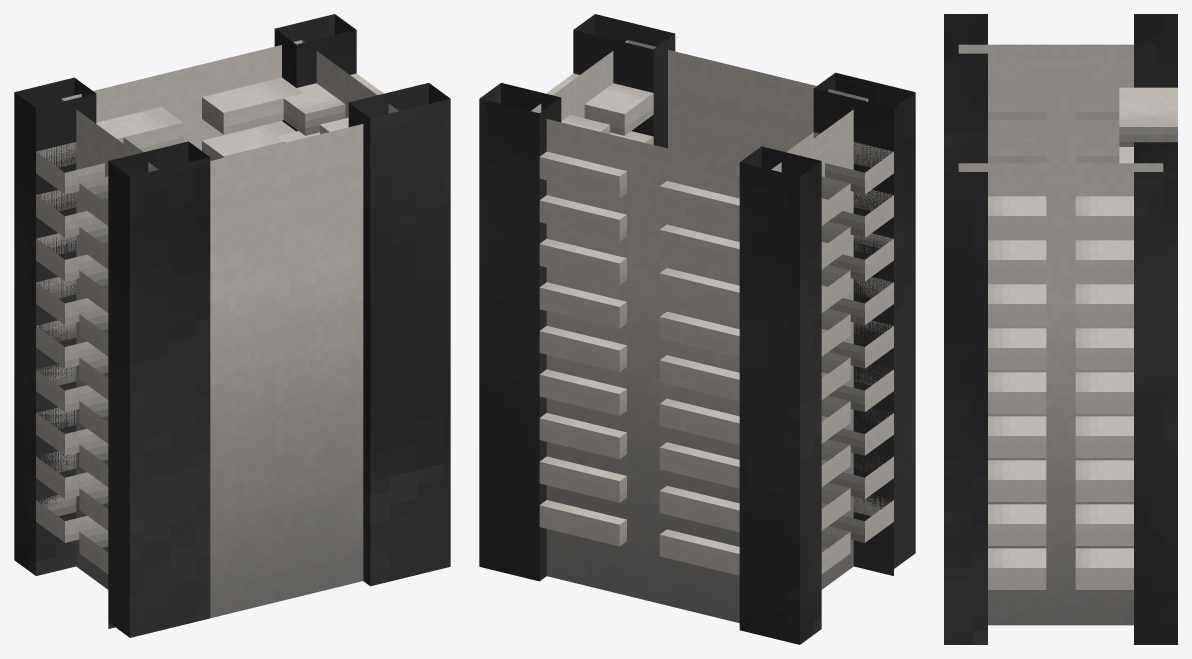
File: Building_1.gltf
The picture shows the model from 3 angles, left to right: view 1: azimuth 30°, elevation 25°; view 2: azimuth 150°, elevation 25°; view 3: azimuth 270°, elevation 25°; orthographic projection.
Visible parts, largest first — view 1: cube; view 2: cube; view 3: cube.
Boxes of the visible parts, <box> form: cube: <box>14,14,450,637</box>; cube: <box>479,14,915,644</box>; cube: <box>944,14,1177,644</box>.
Size of the model in its own units: 3 by 4.19 by 1.88.
1 material, 1 textured.
